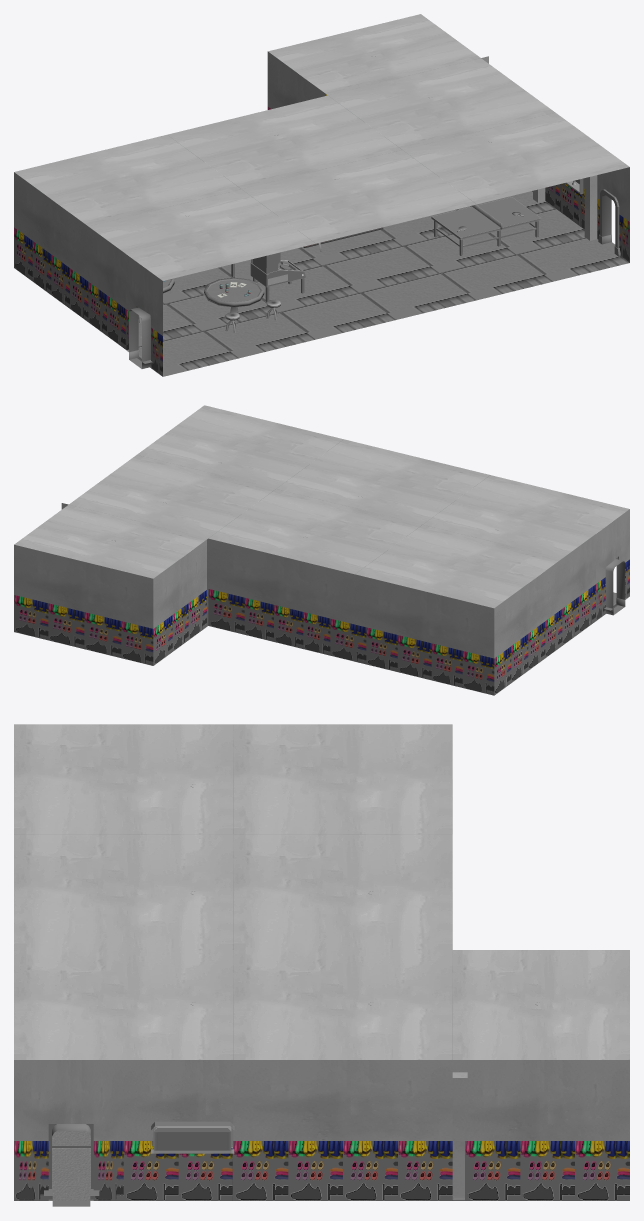
The model's file is MSH_Game_room_L2_R3_optimized.fbx.
The picture shows the model from 3 angles, top to bottom: view 1: azimuth 30°, elevation 25°; view 2: azimuth 150°, elevation 25°; view 3: azimuth 270°, elevation 25°; orthographic projection. The views are drawn at different scales.
Visible parts, largest first — view 1: lightmap0, lightmap1, lightmap-1; view 2: lightmap0, lightmap-1; view 3: lightmap0, lightmap1.
Part boxes in pixels (x1=…): lightmap0: x1=14, y1=14, x2=629, y2=376; lightmap1: x1=138, y1=56, x2=583, y2=332; lightmap-1: x1=129, y1=194, x2=615, y2=368; lightmap0: x1=14, y1=405, x2=629, y2=695; lightmap-1: x1=605, y1=559, x2=625, y2=615; lightmap0: x1=14, y1=724, x2=629, y2=1200; lightmap1: x1=151, y1=784, x2=539, y2=1158.
Bounding box in the file's own units: 30.91 × 5.88 × 23.19.
